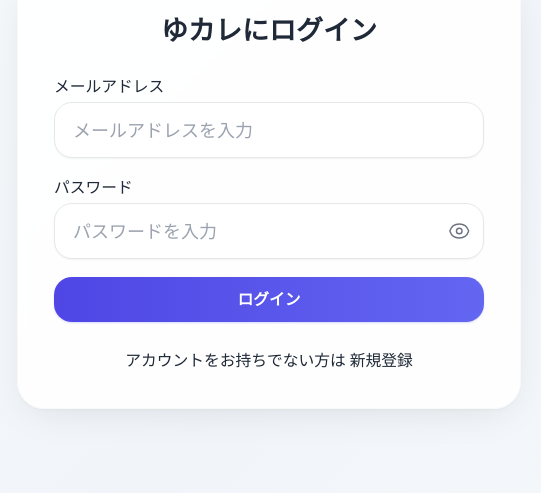
it: AuthForm › login mode › validation › should show error when email is invalid
Step 1. Type "invalid-email" into the field labelled "メールアドレス" → (269, 130), box [54,102,484,158]
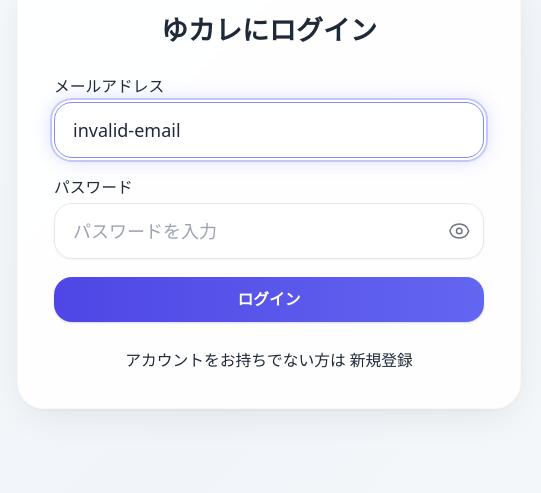
Step 2. Click the button "ログイン" → (269, 300), box [54,277,484,322]
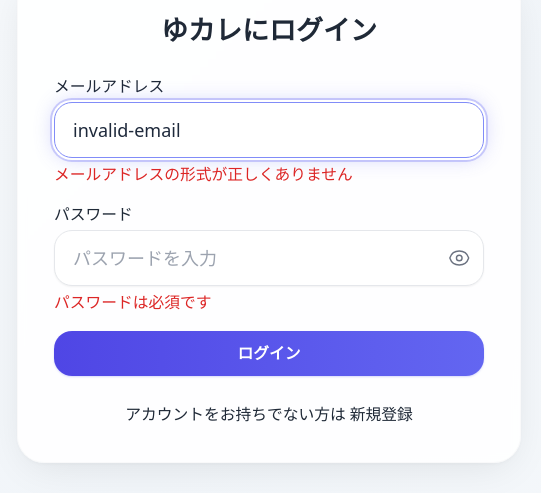
Result: the text "メールアドレスの形式が正しくありません" is shown at [54,162,353,184]
